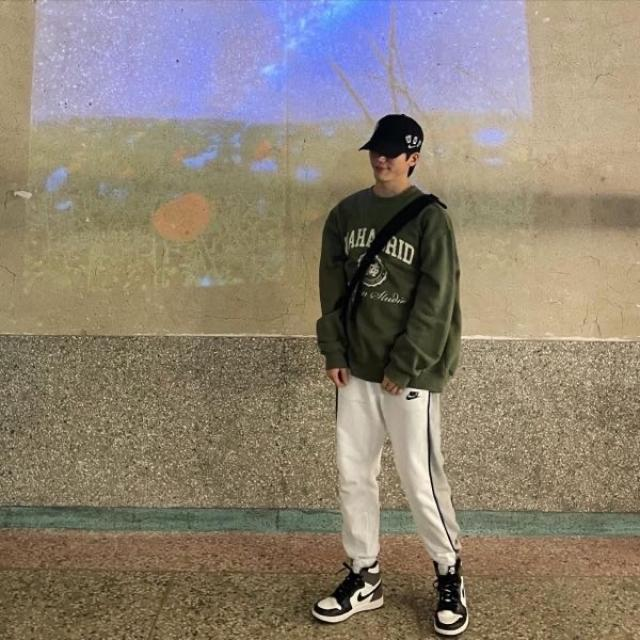mtm: (317, 184, 462, 394)
trainingpants: (339, 374, 465, 576)
